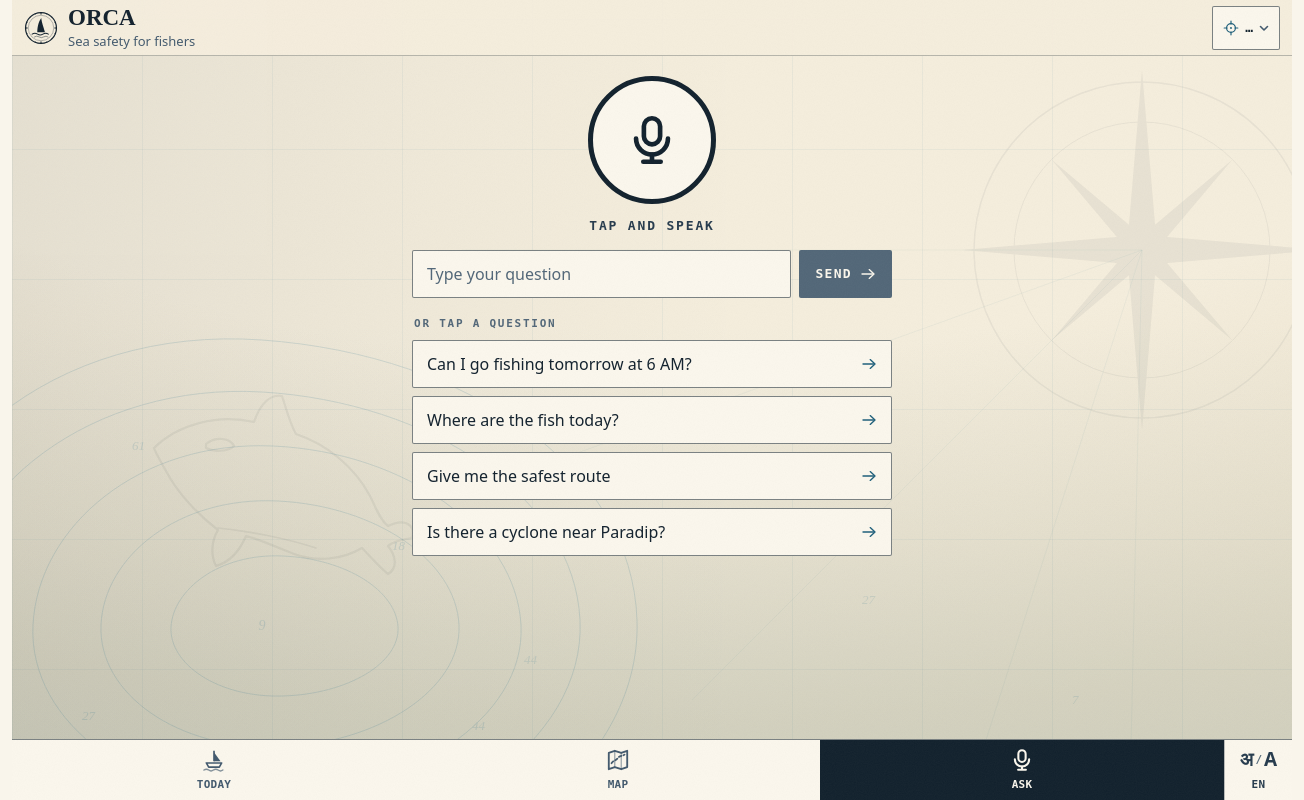
Test: the phone › Ask: a stale answer keeps its number, stamped with caution and unconfirmed
Click the button "Where are the fish today?": click(523, 420) [412,396,892,444]
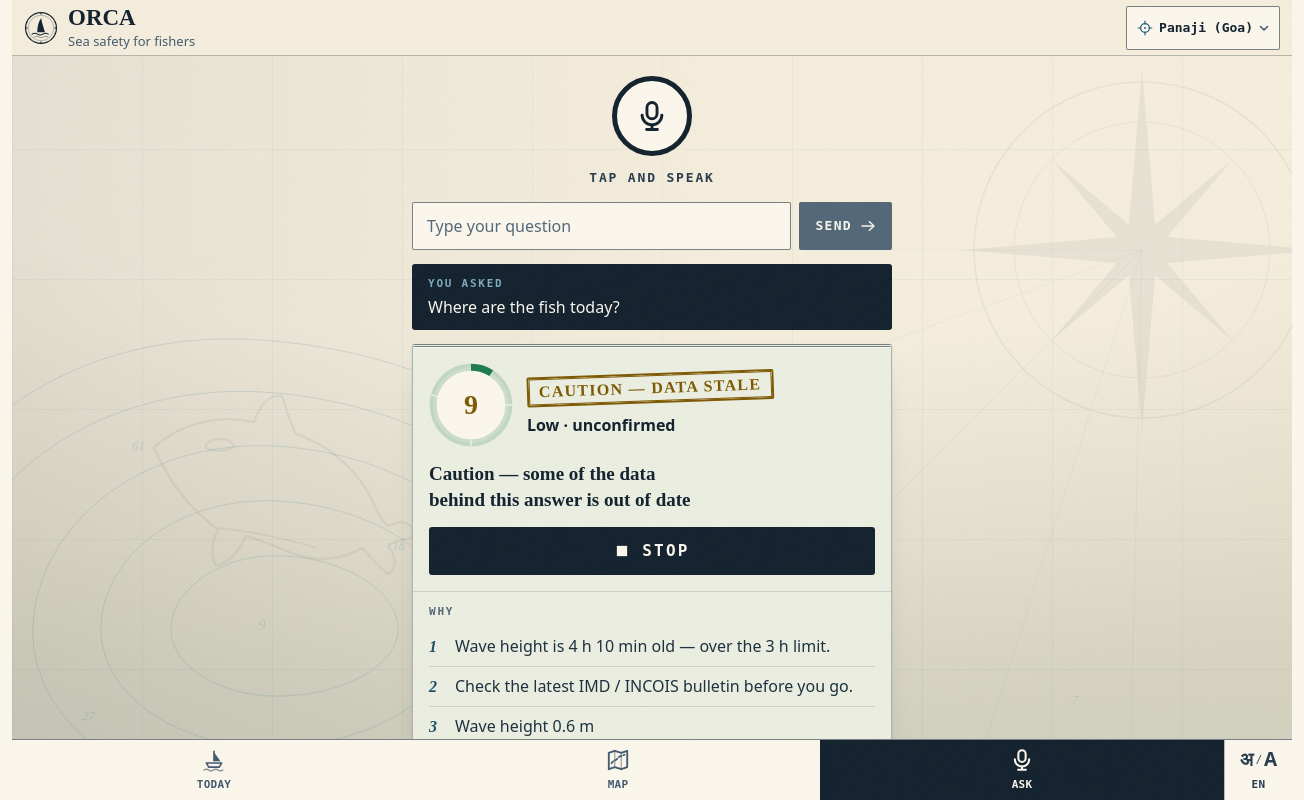
Result: the text "Caution — data stale" is shown at [526,369,774,408]
Result: the text "Low · unconfirmed" is shown at [527,414,676,436]
